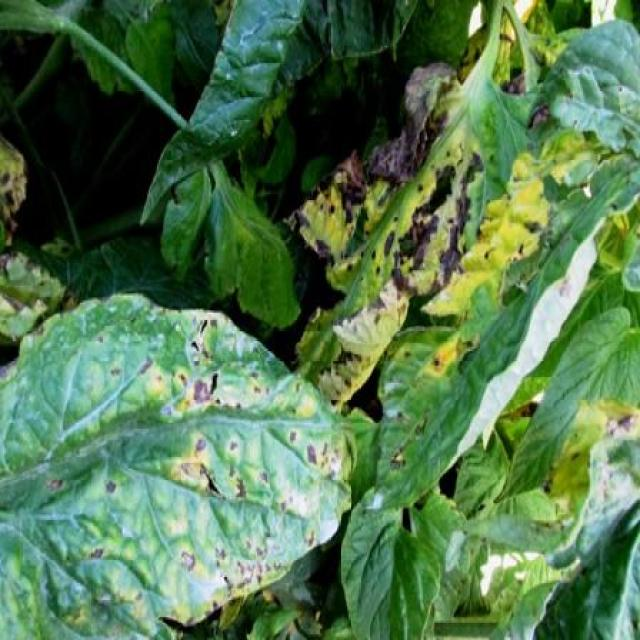Early Blight: (0, 292, 351, 638), (370, 144, 640, 516), (293, 54, 530, 406)
